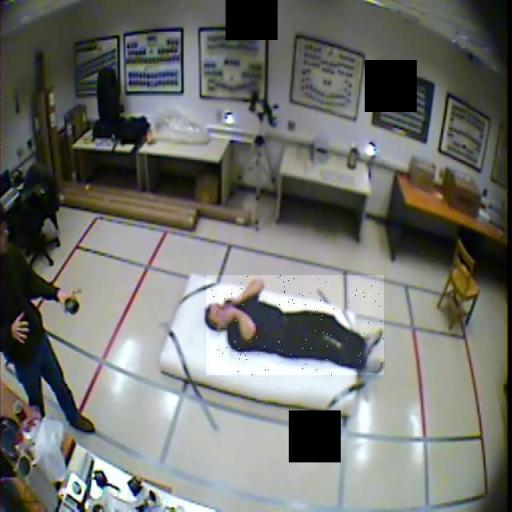Fall: (206, 275, 384, 375)
